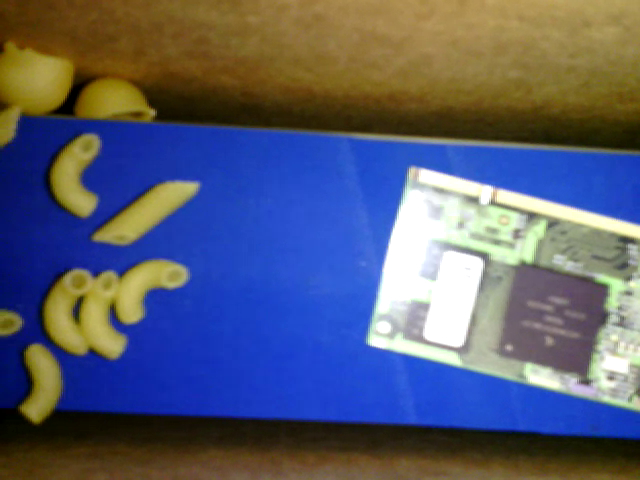elbow: (114, 251, 200, 325), (72, 268, 132, 365), (43, 264, 93, 360), (50, 132, 98, 212), (22, 342, 66, 426), (1, 307, 26, 340)
penne: (96, 184, 200, 245), (1, 102, 24, 153)
shell: (1, 33, 76, 121), (71, 67, 160, 125)
